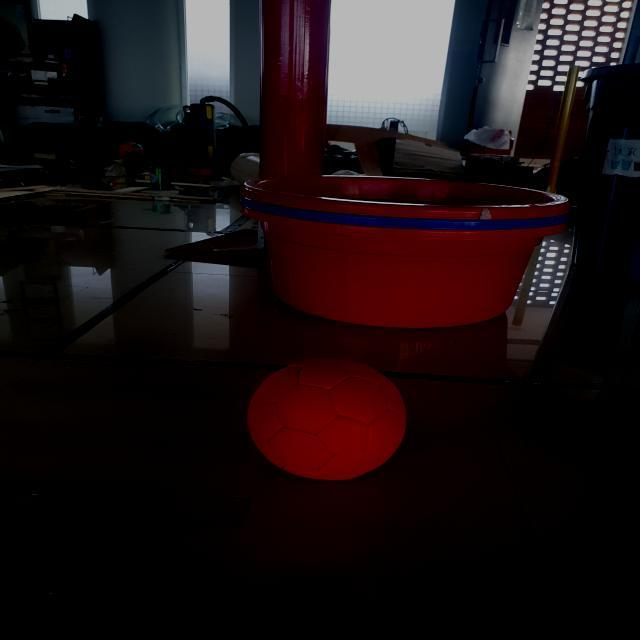bola: (238, 351, 412, 489)
